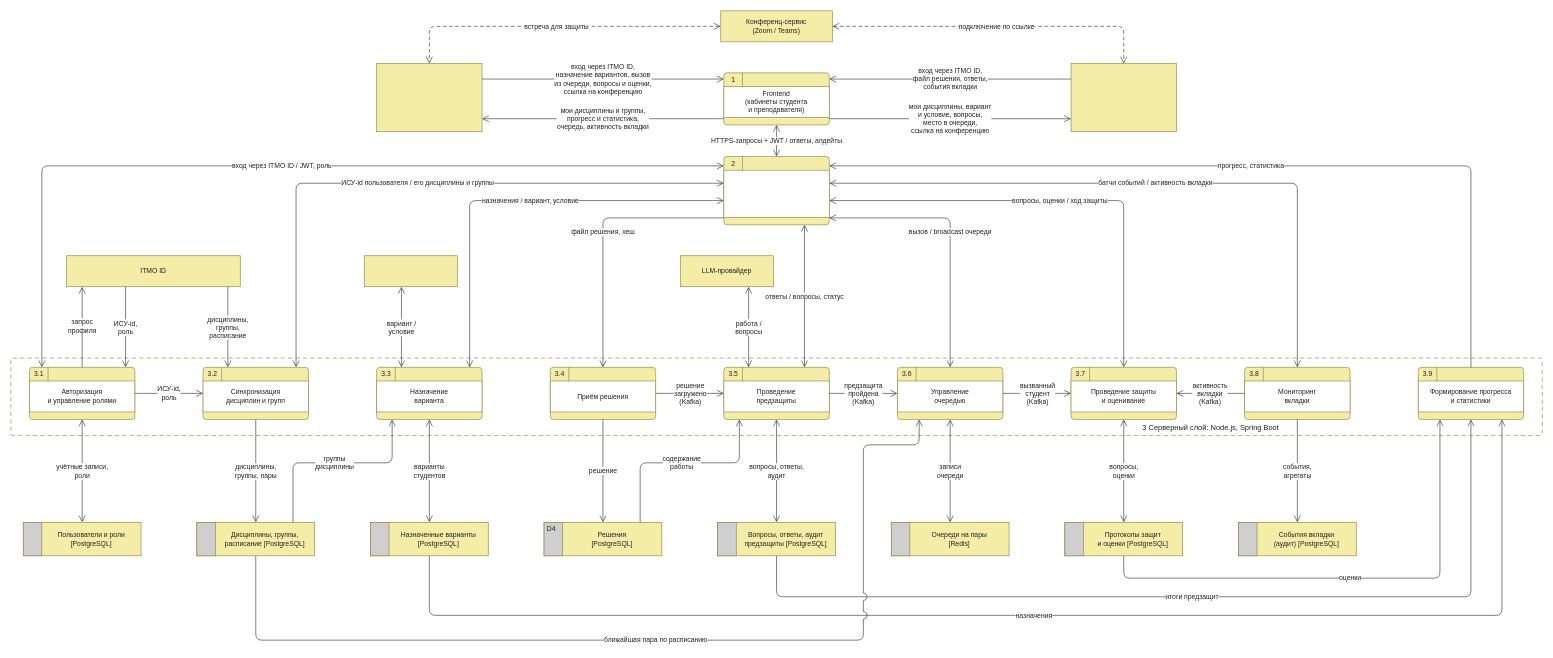
Some shapes in this 1553 by 658 pixel diagram are drawn without their labels. The shapes that lost their labels are listed below. From the top down, each one's centre as x and y in pixels, then its label:
the point at 429,97: Преподаватель
the point at 1123,97: Студент
the point at 776,193: API Gateway
the point at 410,271: Внешний API заданий
the point at 32,539: D1
the point at 205,539: D2
the point at 379,539: D3
the point at 726,539: D5
the point at 900,539: D6
the point at 1073,539: D7
the point at 1247,539: D8
